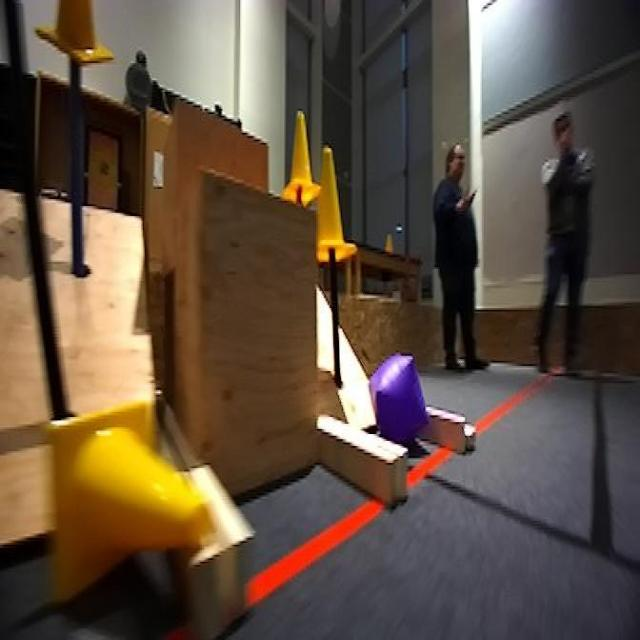frc_cone: (46, 398, 216, 604), (308, 146, 352, 272), (38, 0, 112, 68), (283, 110, 317, 202)
frc_cube: (369, 350, 426, 442)
